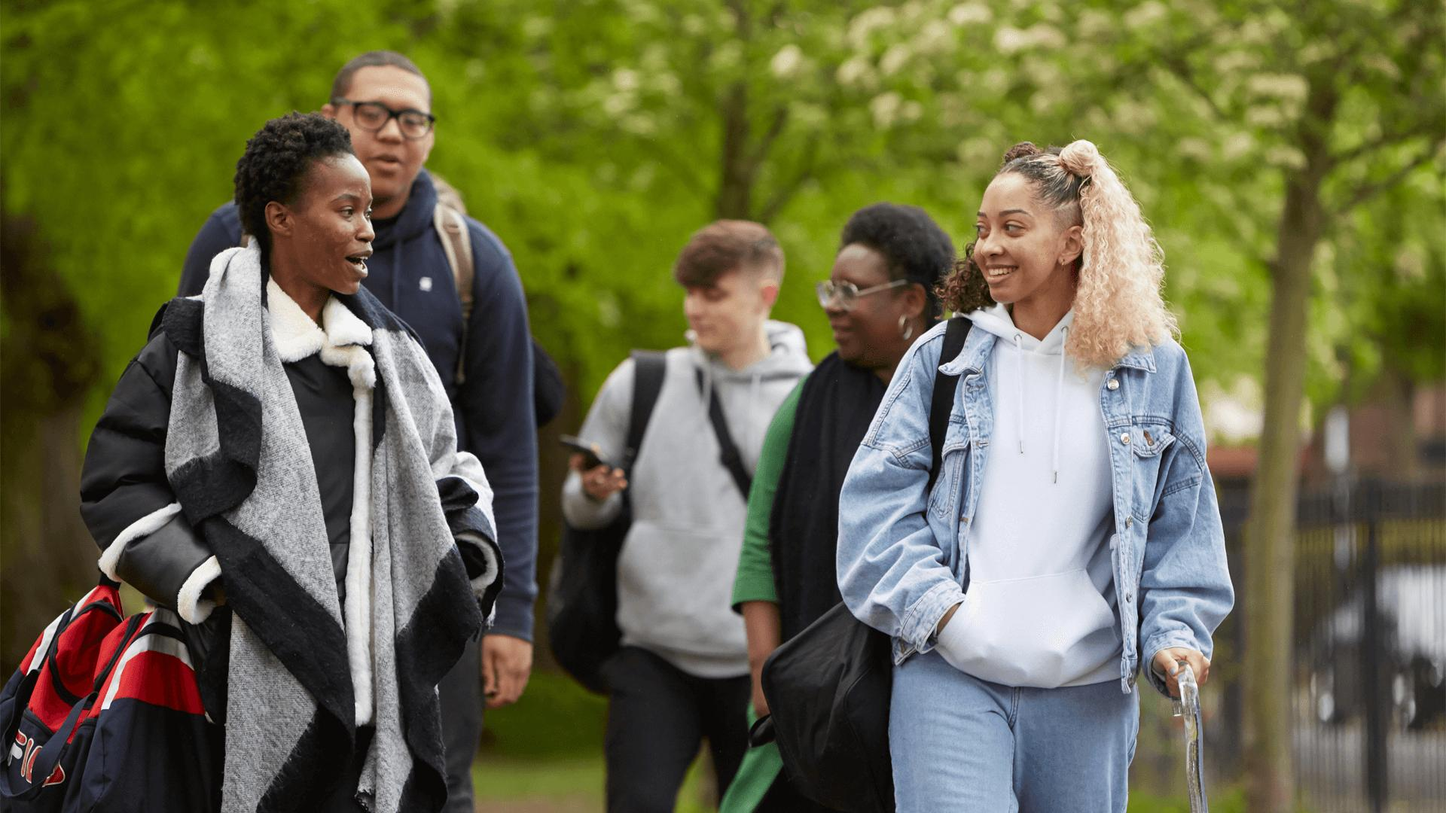Human: (161, 121, 490, 813), (927, 151, 1215, 813), (759, 154, 934, 813), (603, 229, 785, 794)
